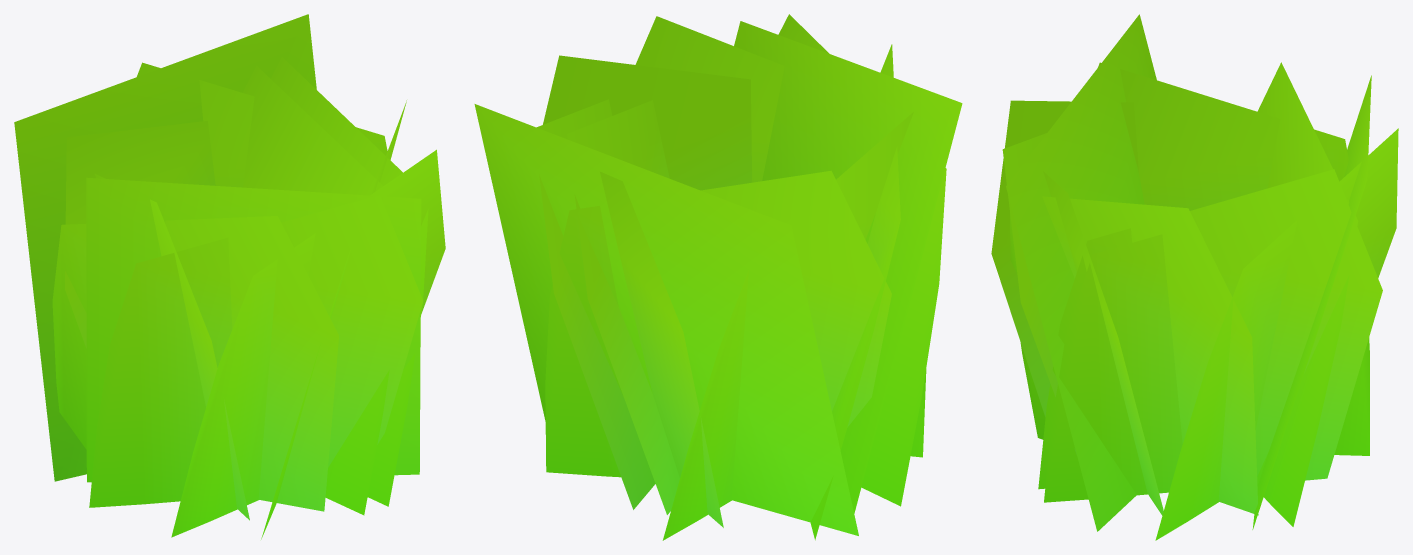
File: GrassSmall.fbx
3 renders of one model, left to right at view 1: azimuth 30°, elevation 25°; view 2: azimuth 150°, elevation 25°; view 3: azimuth 270°, elevation 25°, orthographic. The views are drawn at different scales.
Visible parts, largest first — view 1: transform3; view 2: transform3; view 3: transform3.
Part boxes in pixels (left/top/right/bottom): transform3: left=14, top=14, right=445, bottom=539; transform3: left=474, top=14, right=962, bottom=540; transform3: left=991, top=14, right=1398, bottom=540.
Size of the model in its own units: 73.28 by 71.27 by 72.38.
